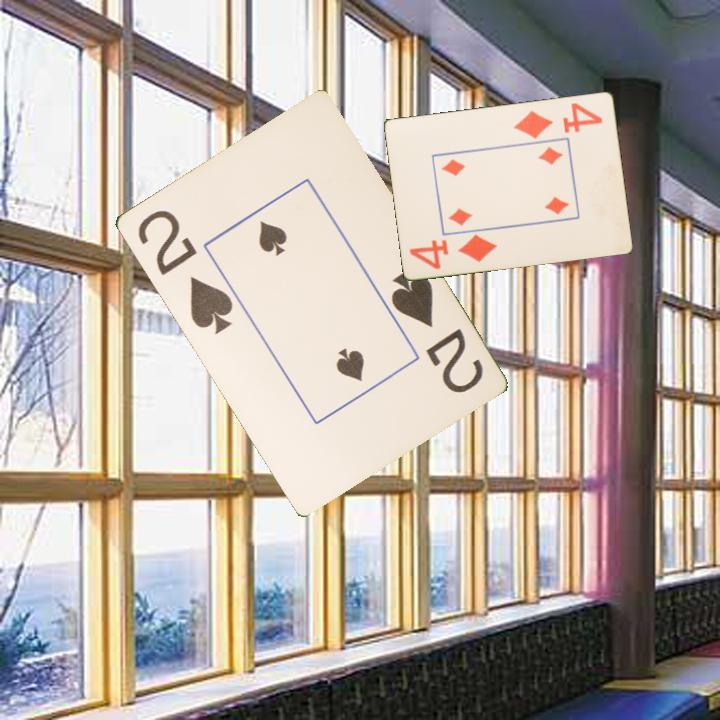2s: (133, 206, 236, 337), (386, 266, 486, 396)
4d: (510, 99, 606, 141), (406, 230, 500, 272)
